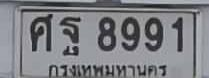1: (171, 16, 182, 51)
8: (97, 16, 115, 50)
9: (120, 16, 139, 50), (144, 16, 162, 51)
A16: (59, 16, 80, 50)
A38: (29, 13, 52, 51)
BKK: (47, 60, 170, 78)
